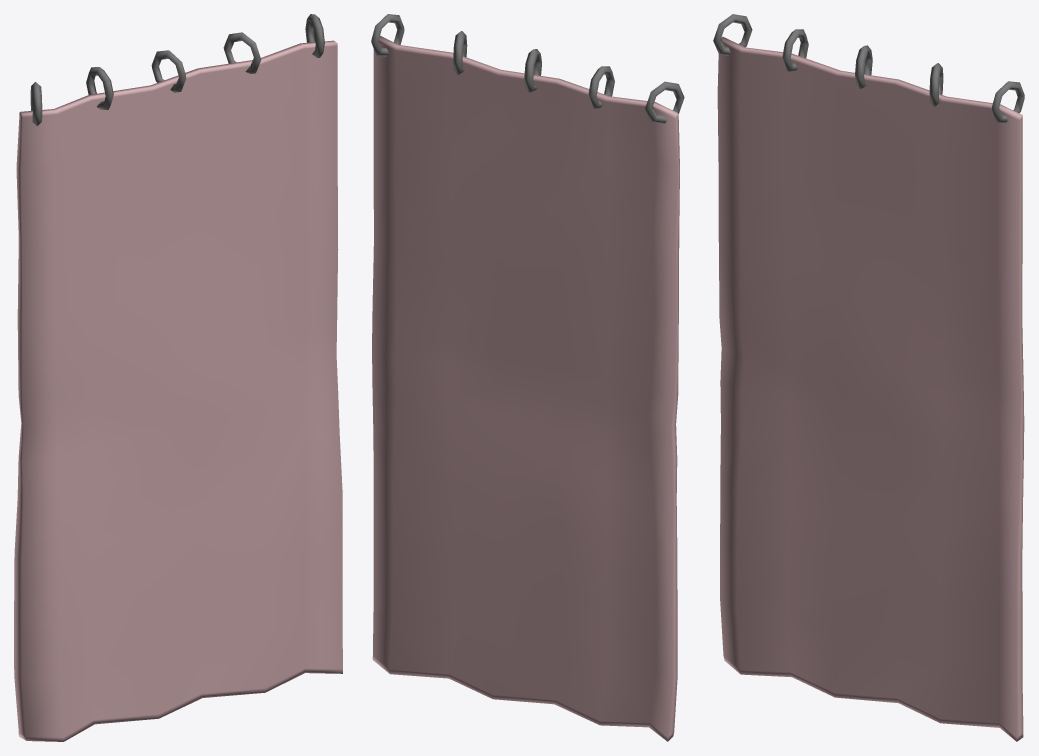
Rendered from curtain_033.fbx.
3 renders of one model, left to right at view 1: azimuth 30°, elevation 25°; view 2: azimuth 150°, elevation 25°; view 3: azimuth 330°, elevation 25°, orthographic.
Visible parts, largest first — view 1: curtain_033; view 2: curtain_033; view 3: curtain_033.
Part boxes in pixels (left/top/right/bottom): curtain_033: left=14, top=14, right=342, bottom=741; curtain_033: left=371, top=14, right=684, bottom=741; curtain_033: left=713, top=14, right=1024, bottom=741.
Size of the model in its own units: 174 by 22.83 by 348.
